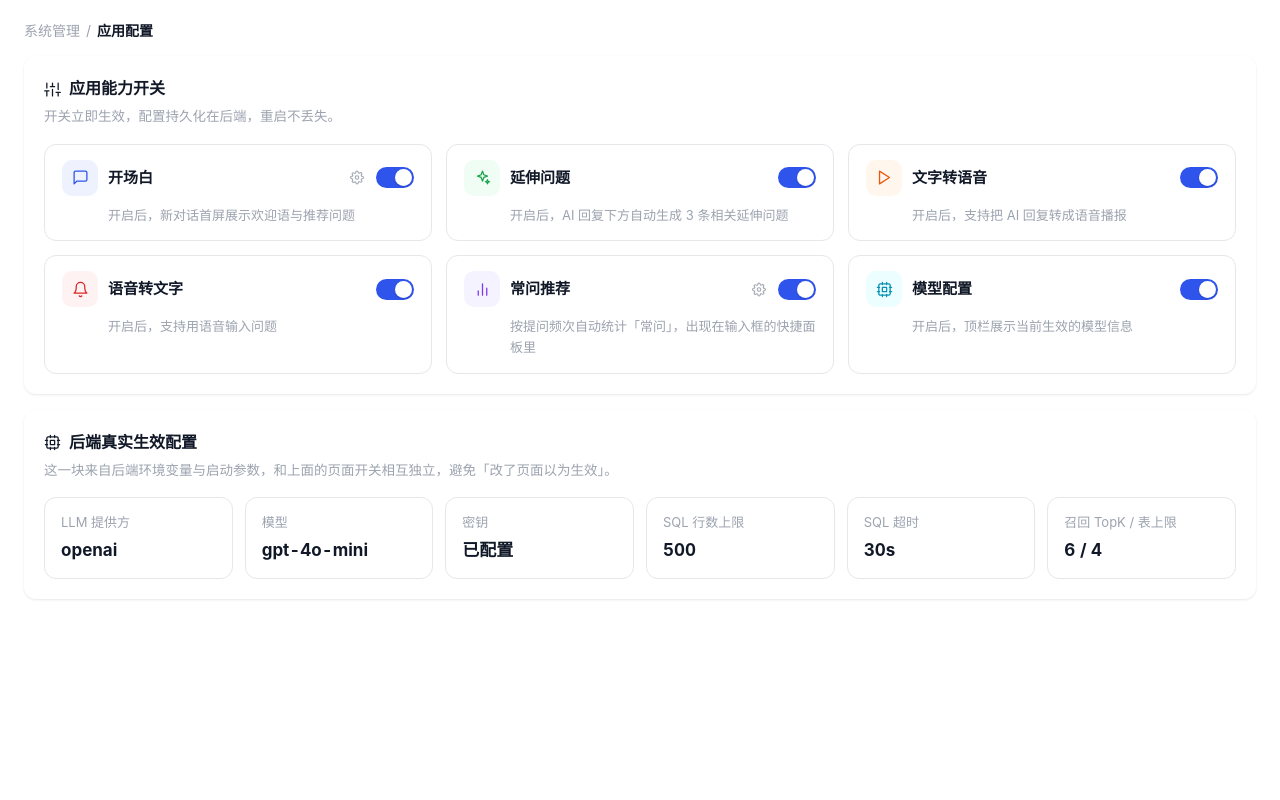
Scenario: AppConfigPage — 开场白设置 › 打开弹窗时预填当前欢迎语与推荐问题
Expected: the switch named "开场白" is shown, [376,167,414,188]
Click the button named "设置开场白": [357, 178] box [344,165,370,191]
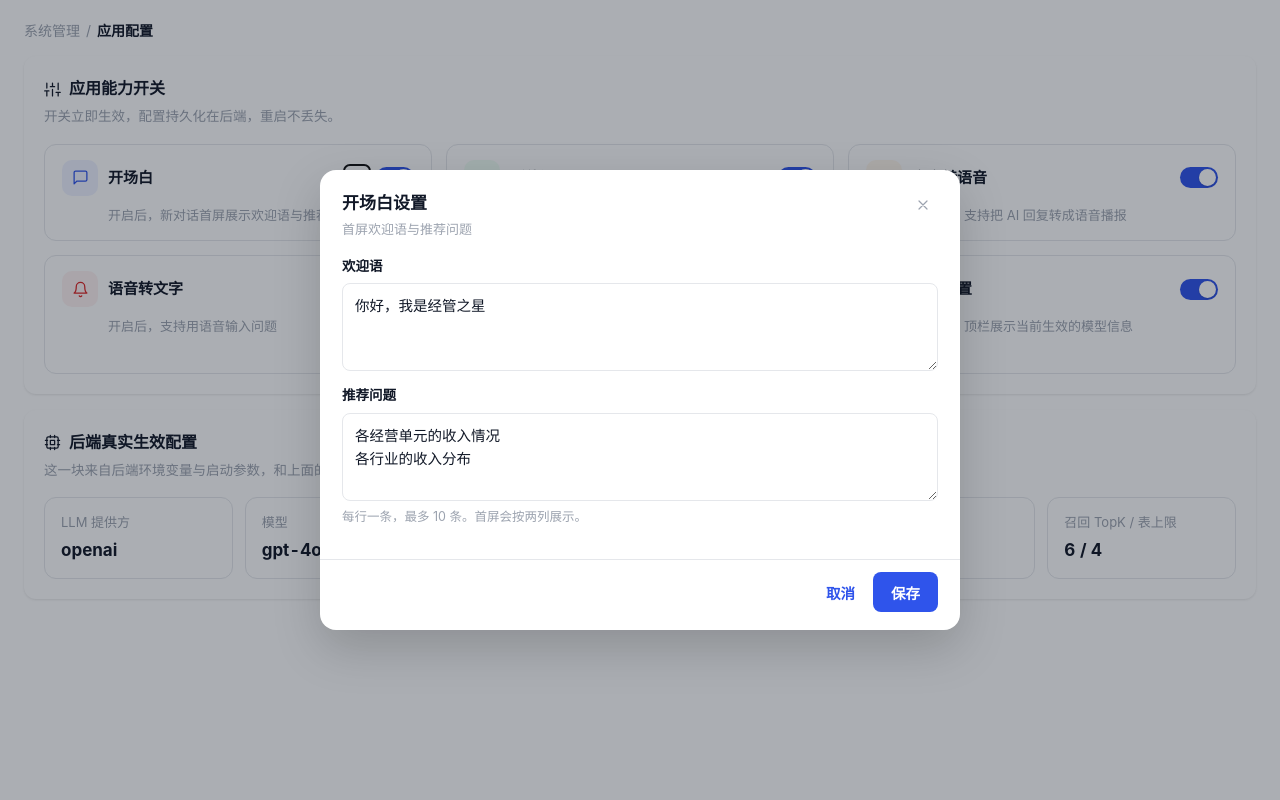
Expected: the text box labelled "欢迎语" holds "你好，我是经管之星", [342,284,938,372]
